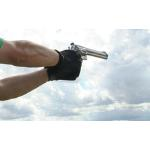Pistol: (66, 42, 110, 62)
